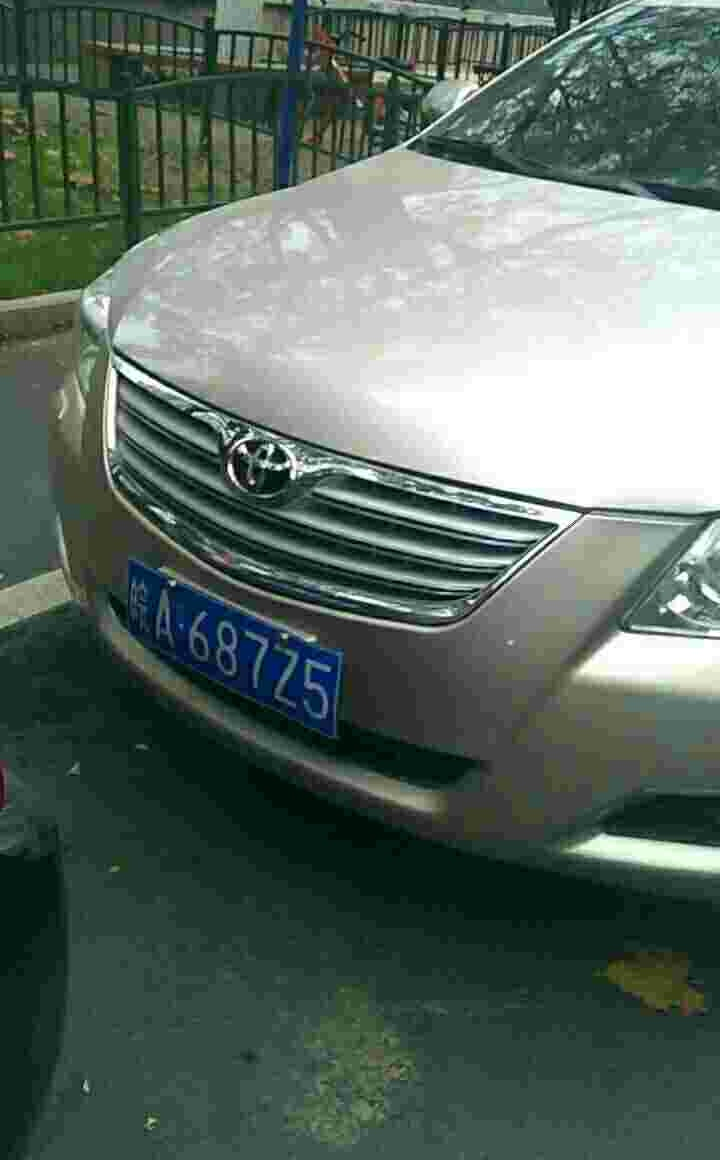license_plate: (129, 563, 349, 728)
